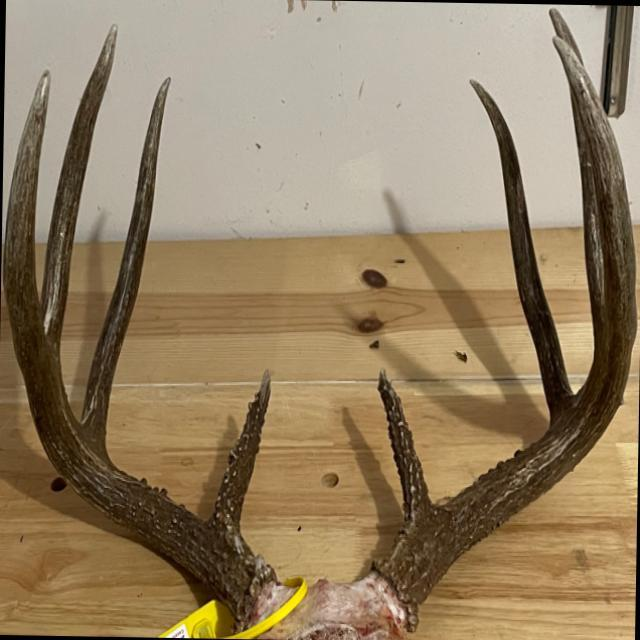L-F: (370, 34, 638, 635)
L-G1: (375, 366, 432, 531)
L-G2: (468, 77, 575, 427)
R-F: (1, 67, 281, 634)
R-G1: (206, 366, 272, 542)
R-G2: (79, 72, 173, 462)
R-G3: (40, 20, 118, 357)
